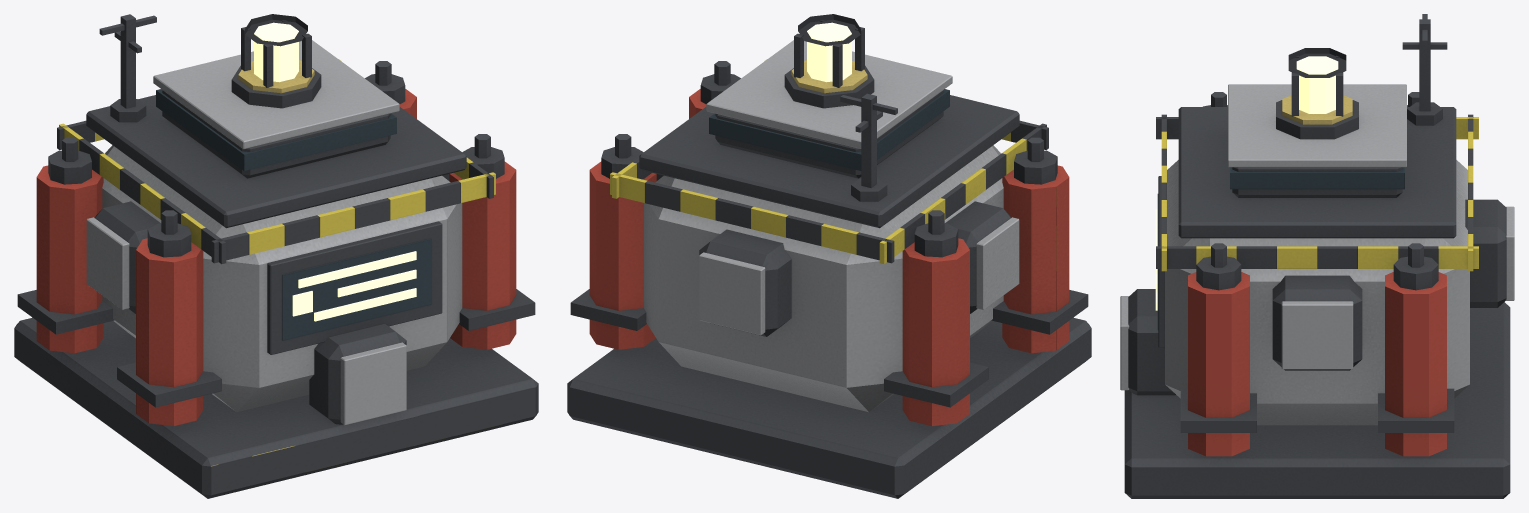
The model's file is SM_DamageControl.fbx.
3 renders of one model, left to right at view 1: azimuth 30°, elevation 25°; view 2: azimuth 150°, elevation 25°; view 3: azimuth 270°, elevation 25°, orthographic.
Visible parts, largest first — view 1: SMN_DamageControl, Lamp; view 2: SMN_DamageControl, Lamp; view 3: SMN_DamageControl, Lamp.
Boxes of the visible parts, x1,y1,x2,y2 form: SMN_DamageControl: (14, 14, 538, 498); Lamp: (254, 22, 416, 321); SMN_DamageControl: (567, 14, 1091, 498); Lamp: (807, 22, 851, 82); SMN_DamageControl: (1120, 14, 1514, 498); Lamp: (1155, 56, 1338, 310).
Size of the model in its own units: 0.97 by 0.887 by 0.88.
